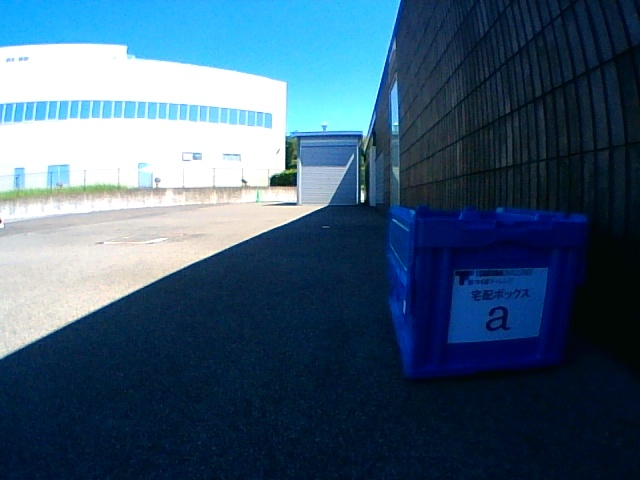blue_box: (387, 205, 585, 376)
tag_a: (461, 273, 534, 335)
